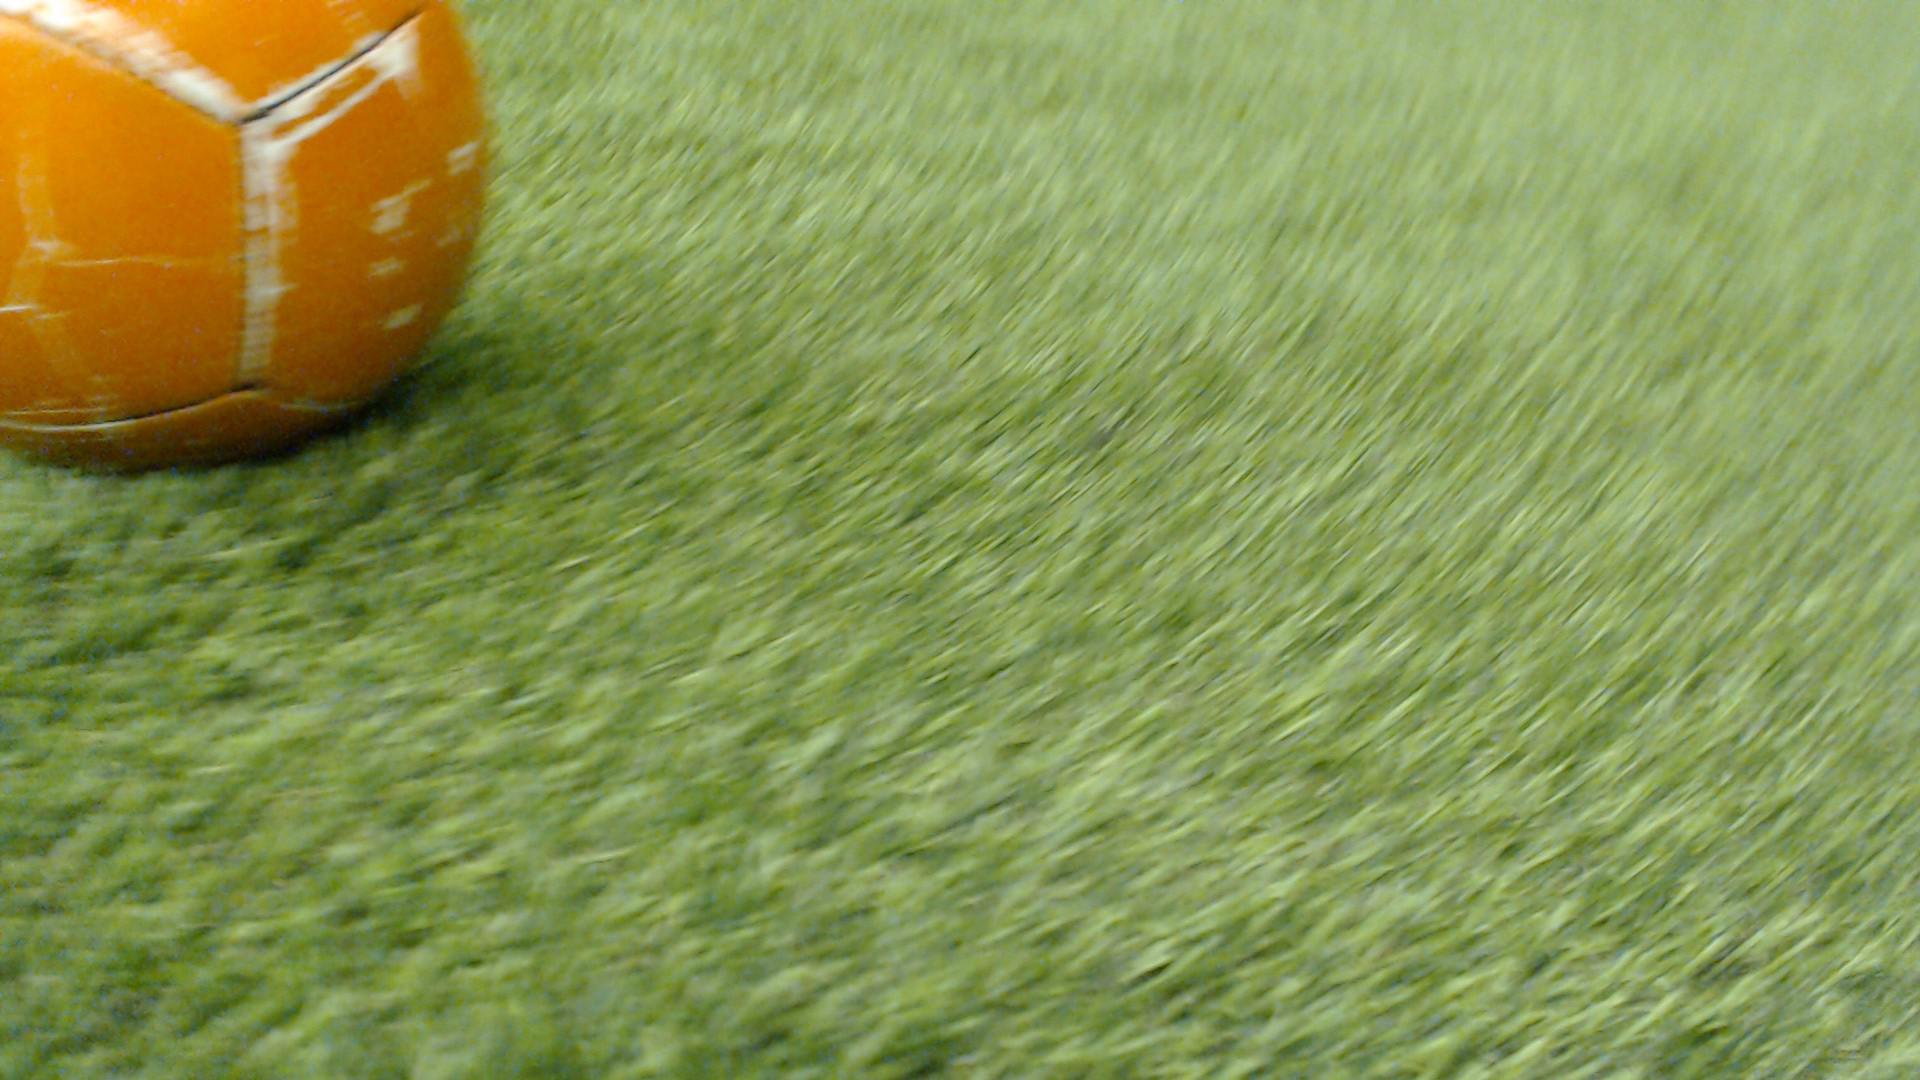bola: (0, 0, 564, 506)
